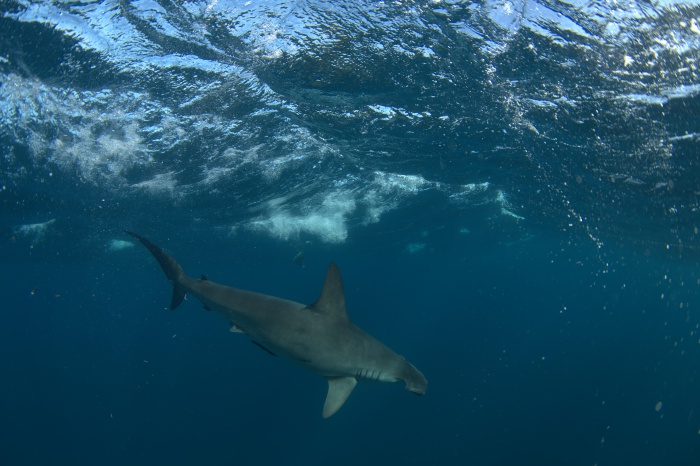Hammer: (124, 226, 438, 426)
